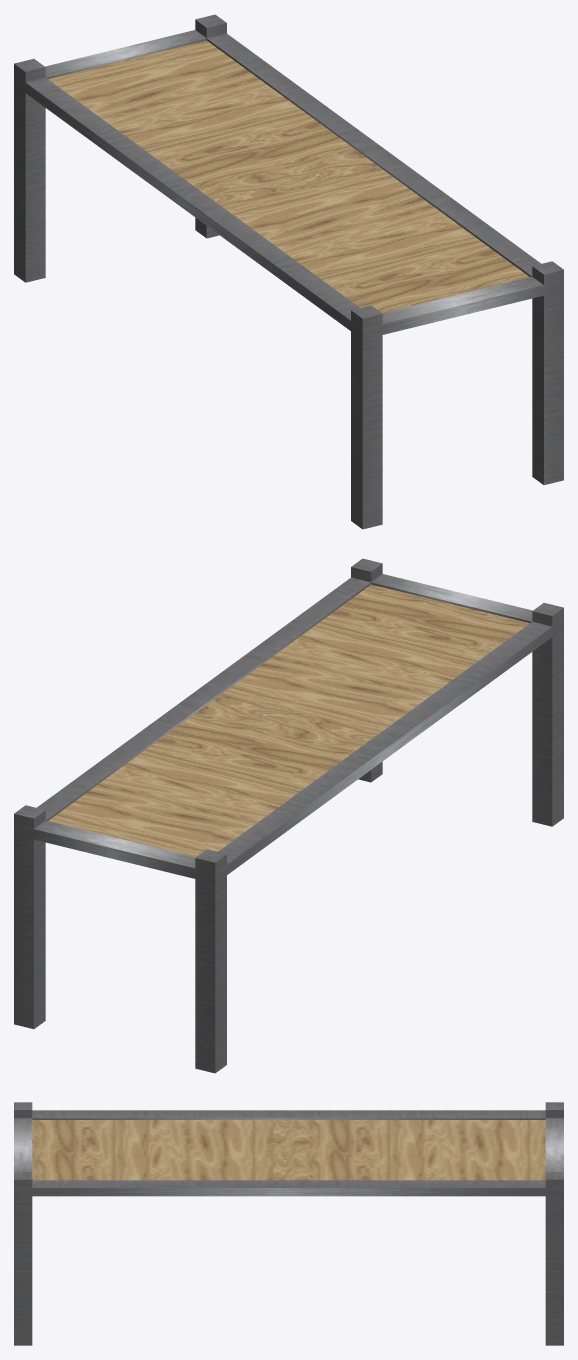
Rendered from MetalShelf50cm001.FBX.
3 renders of one model, top to bottom at view 1: azimuth 30°, elevation 25°; view 2: azimuth 150°, elevation 25°; view 3: azimuth 270°, elevation 25°, orthographic. The views are drawn at different scales.
Parts seen in each view (by area): view 1: MetalShelf50cm001; view 2: MetalShelf50cm001; view 3: MetalShelf50cm001.
Boxes of the visible parts, <box> form: MetalShelf50cm001: <box>14,14,563,529</box>; MetalShelf50cm001: <box>14,558,563,1073</box>; MetalShelf50cm001: <box>14,1102,563,1345</box>.
Bounding box in the file's own units: 50 × 50 × 150.
